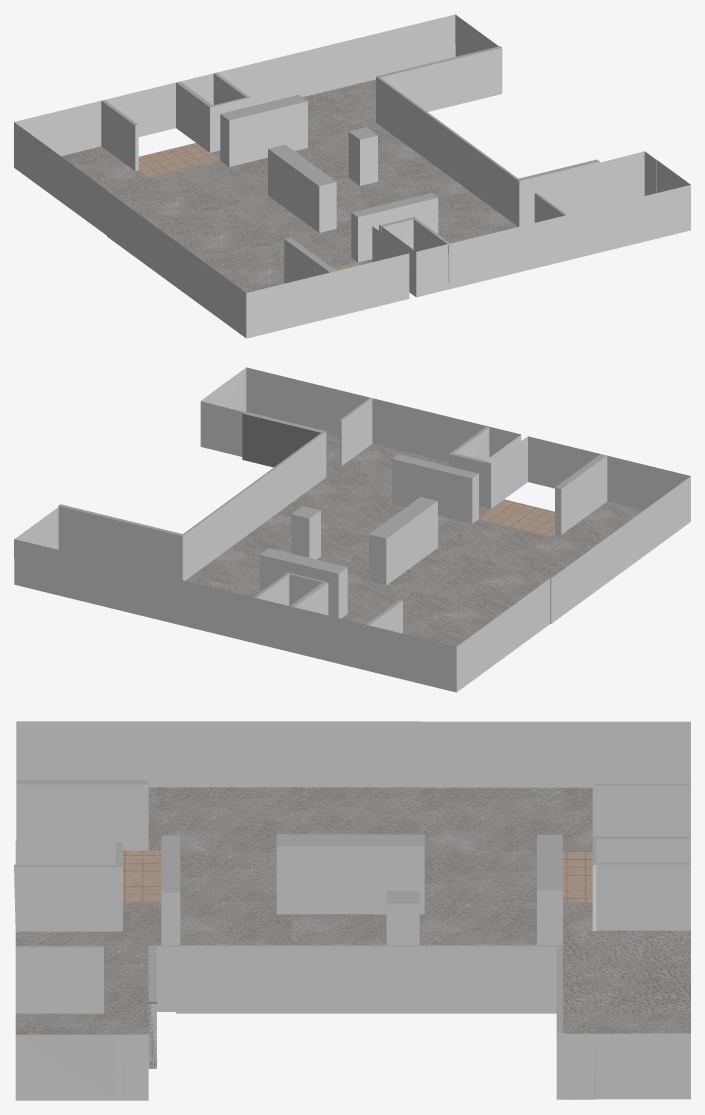
Rendered from 3floor.fbx.
3 renders of one model, top to bottom at view 1: azimuth 30°, elevation 25°; view 2: azimuth 150°, elevation 25°; view 3: azimuth 270°, elevation 25°, orthographic. The views are drawn at different scales.
Visible parts, largest first — view 1: floor_3f; view 2: floor_3f; view 3: floor_3f.
Part boxes in pixels (box(x1,y1,x2,y2)): floor_3f: box(14, 14, 690, 338); floor_3f: box(14, 367, 690, 692); floor_3f: box(14, 721, 690, 1100).
Bounding box in the file's own units: 0.4986 × 0.0502 × 0.455.
Materials: 2 (1 with a texture image).
